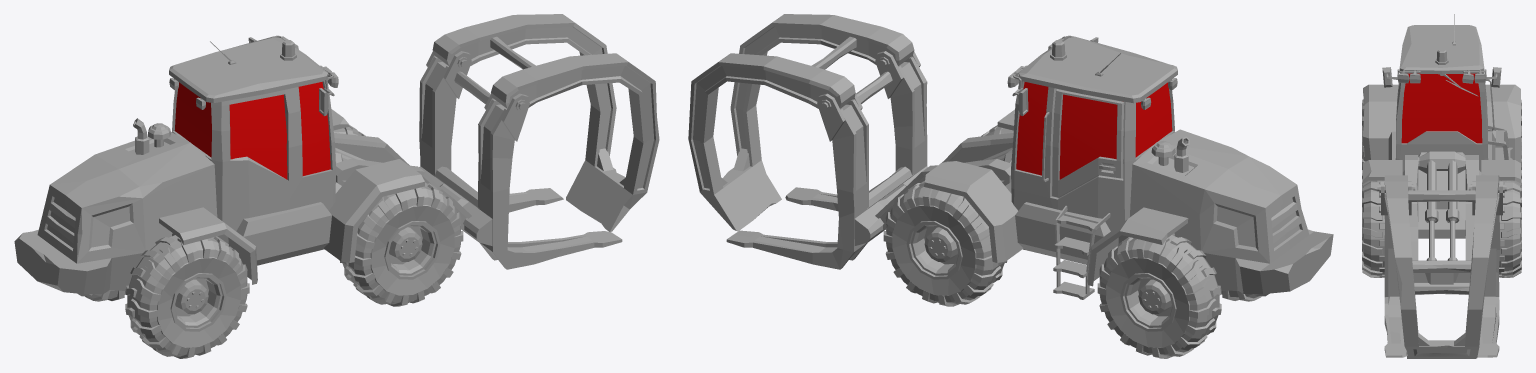
File: SK_Veh_Loader_01.fbx
3 views of the same model, side by side, from view 1: azimuth 30°, elevation 25°; view 2: azimuth 150°, elevation 25°; view 3: azimuth 270°, elevation 25° (orthographic). The views are drawn at different scales.
Visible parts, largest first — view 1: SK_Veh_Loader_01, SK_Veh_Loader_01_Claw_02, SK_Veh_Loader_01_Wheel_rr, SK_Veh_Loader_01_Wheel_fr, SK_Veh_Loader_01_Glass, SK_Veh_Loader_01_Arm; view 2: SK_Veh_Loader_01, SK_Veh_Loader_01_Claw_02, SK_Veh_Loader_01_Wheel_rl, SK_Veh_Loader_01_Wheel_fl, SK_Veh_Loader_01_Glass, SK_Veh_Loader_01_Arm; view 3: SK_Veh_Loader_01, SK_Veh_Loader_01_Claw_02, SK_Veh_Loader_01_Glass, SK_Veh_Loader_01_Arm, SK_Veh_Loader_01_Wheel_fr, SK_Veh_Loader_01_Wheel_fl, SK_Veh_Loader_01_Wheel_rr.
Part boxes in pixels (left/top/right/bottom): SK_Veh_Loader_01: left=14, top=35, right=622, bottom=294; SK_Veh_Loader_01_Claw_02: left=432, top=14, right=659, bottom=231; SK_Veh_Loader_01_Wheel_rr: left=125, top=233, right=249, bottom=358; SK_Veh_Loader_01_Wheel_fr: left=339, top=182, right=463, bottom=306; SK_Veh_Loader_01_Glass: left=174, top=82, right=330, bottom=179; SK_Veh_Loader_01_Arm: left=334, top=133, right=471, bottom=231; SK_Veh_Loader_01: left=726, top=35, right=1333, bottom=299; SK_Veh_Loader_01_Claw_02: left=688, top=14, right=914, bottom=231; SK_Veh_Loader_01_Wheel_rl: left=1097, top=233, right=1221, bottom=358; SK_Veh_Loader_01_Wheel_fl: left=883, top=181, right=1007, bottom=306; SK_Veh_Loader_01_Glass: left=1016, top=82, right=1172, bottom=179; SK_Veh_Loader_01_Arm: left=875, top=133, right=1013, bottom=231; SK_Veh_Loader_01: left=1363, top=14, right=1520, bottom=357; SK_Veh_Loader_01_Claw_02: left=1384, top=175, right=1499, bottom=358; SK_Veh_Loader_01_Glass: left=1401, top=73, right=1482, bottom=143; SK_Veh_Loader_01_Arm: left=1405, top=155, right=1478, bottom=260; SK_Veh_Loader_01_Wheel_fr: left=1362, top=180, right=1384, bottom=277; SK_Veh_Loader_01_Wheel_fl: left=1499, top=180, right=1521, bottom=277; SK_Veh_Loader_01_Wheel_rr: left=1362, top=99, right=1365, bottom=183.
Size of the model in its own units: 940 by 392 by 279.
